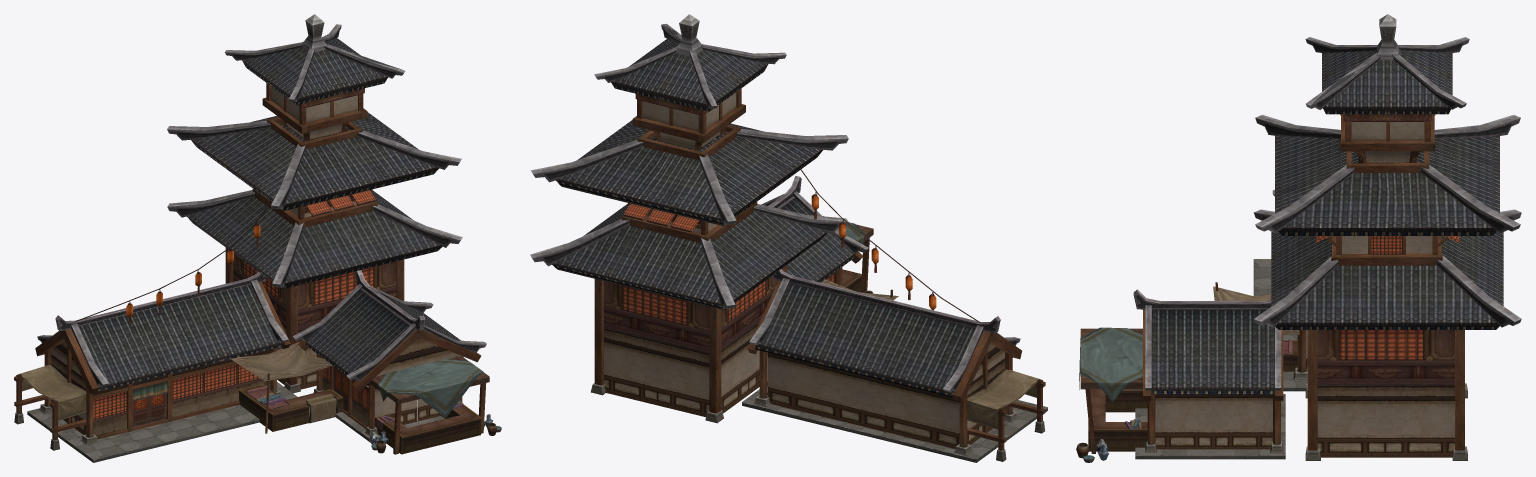
The model's file is s7_3d_jz_guangchang02.FBX.
The picture shows the model from 3 angles, left to right: view 1: azimuth 30°, elevation 25°; view 2: azimuth 150°, elevation 25°; view 3: azimuth 270°, elevation 25°; orthographic projection. The views are drawn at different scales.
Parts seen in each view (by area): view 1: T_s7_3d_jz_shangpu_03, T_s7_3d_jz_shangpu_09; view 2: T_s7_3d_jz_shangpu_03, T_s7_3d_jz_shangpu_09; view 3: T_s7_3d_jz_shangpu_03, T_s7_3d_jz_shangpu_09.
Part boxes in pixels (box(x1,y1,x2,y2)): T_s7_3d_jz_shangpu_03: box(14, 14, 501, 462); T_s7_3d_jz_shangpu_09: box(28, 382, 444, 459); T_s7_3d_jz_shangpu_03: box(530, 14, 1047, 462); T_s7_3d_jz_shangpu_09: box(742, 389, 1047, 459); T_s7_3d_jz_shangpu_03: box(1076, 14, 1521, 462); T_s7_3d_jz_shangpu_09: box(1135, 259, 1307, 455).
Size of the model in its own units: 26.93 by 22.39 by 21.93.
